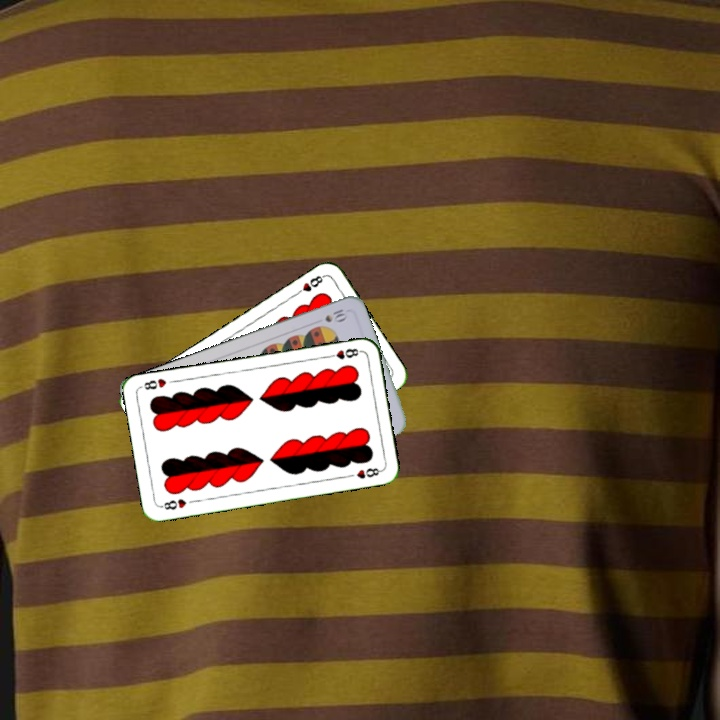H8: (291, 271, 327, 298), (323, 344, 364, 362), (157, 495, 189, 513)
S10: (321, 305, 350, 325)
